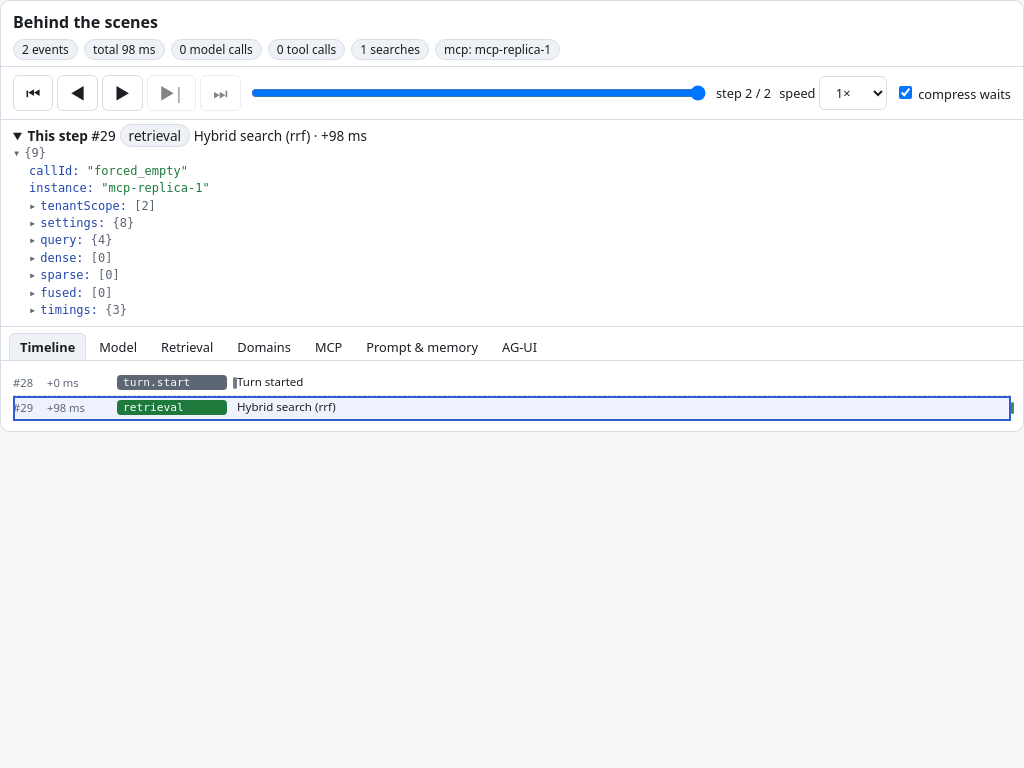
Scenario: MonitorPanel › retrieval tab tells a search that found nothing from one whose candidates were dropped
Step 1. Click the tab "Retrieval" → (187, 346), box [150, 333, 224, 360]
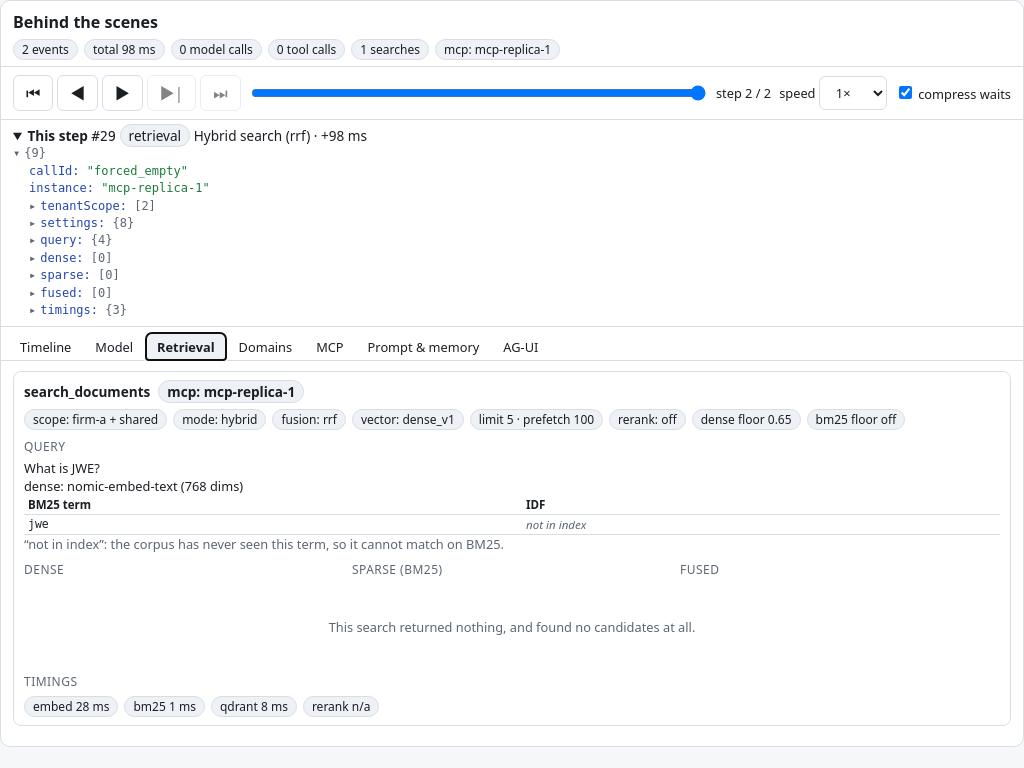
Expected: the element "search" does not show "fell below their branch floor", [13, 371, 1011, 726]
Result: the element "search" shows "found no candidates at all" at [329, 618, 695, 636]
